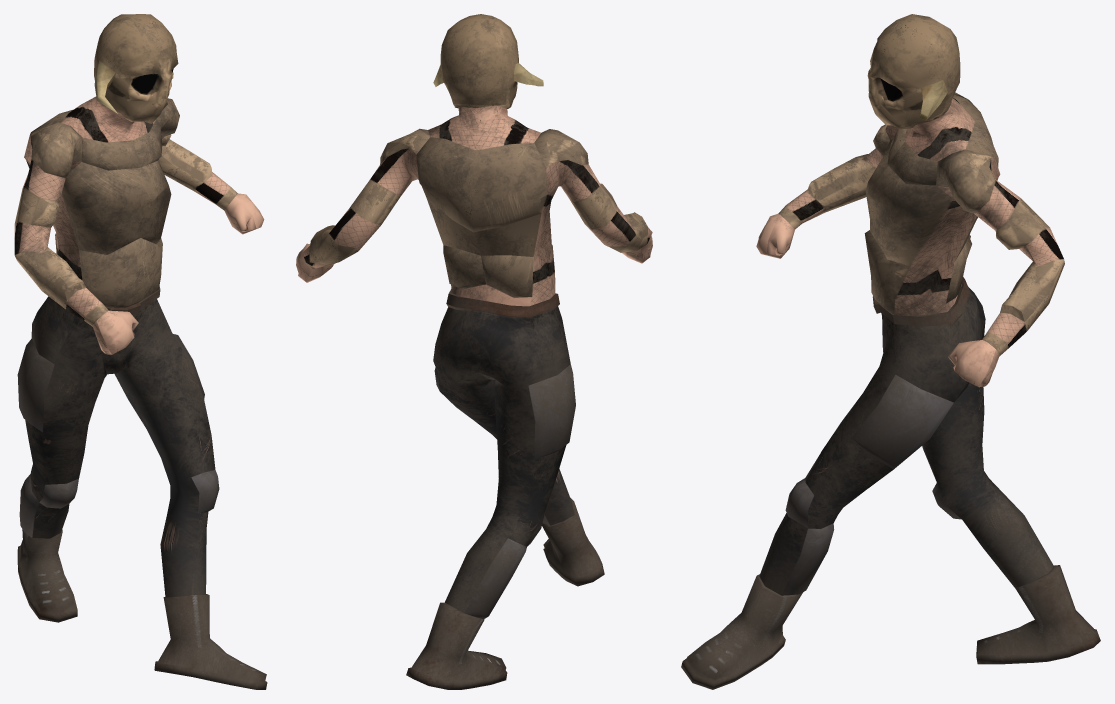
File: Anim_ataque_f1_npc1.0014.obj
3 views of the same model, side by side, from view 1: azimuth 30°, elevation 25°; view 2: azimuth 150°, elevation 25°; view 3: azimuth 270°, elevation 25° (orthographic). The views are drawn at different scales.
Parts seen in each view (by area): view 1: NPC2; view 2: NPC2; view 3: NPC2.
Boxes of the visible parts, x1,y1,x2,y2 form: NPC2: [14, 14, 267, 689]; NPC2: [296, 14, 652, 689]; NPC2: [681, 14, 1100, 689].
Bounding box in the file's own units: 4.55 × 9.21 × 5.29.
